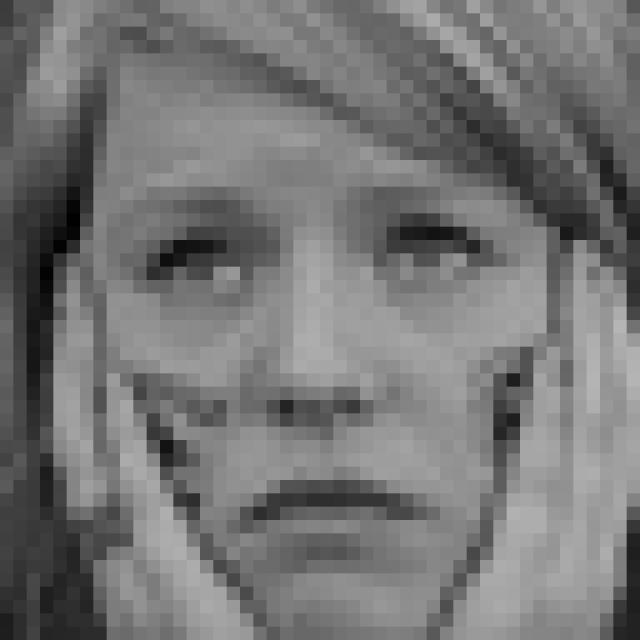sad: (131, 179, 508, 563)
